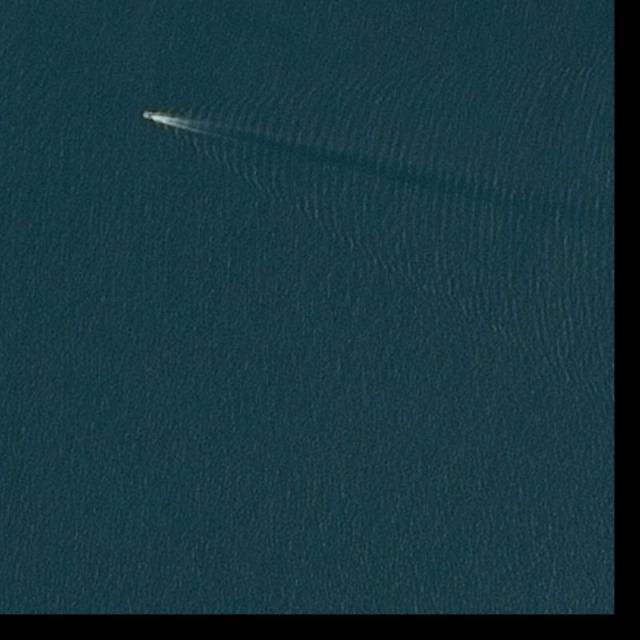ship: (142, 111, 154, 120)
